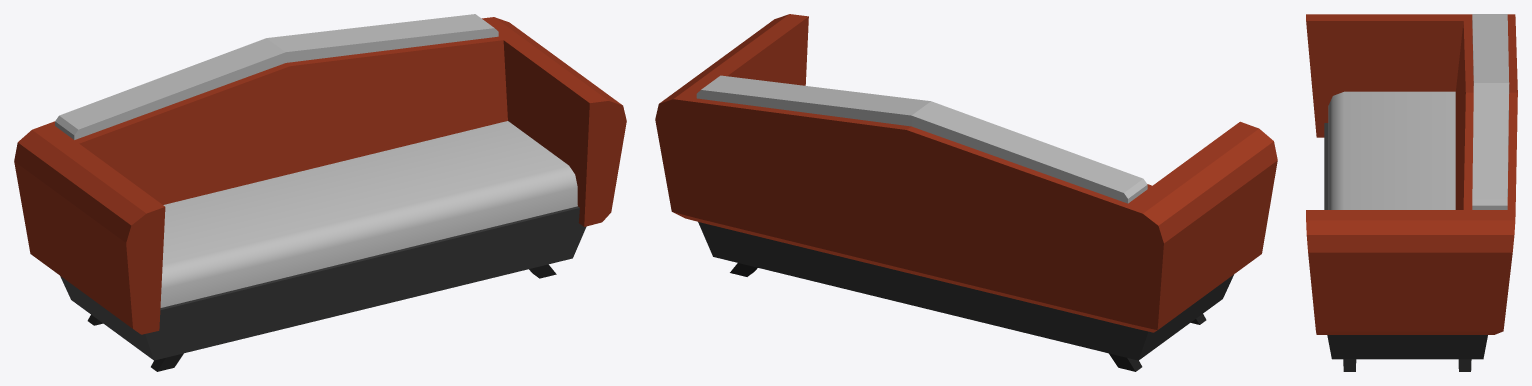
The model's file is sofa-1.glb.
3 renders of one model, left to right at view 1: azimuth 30°, elevation 25°; view 2: azimuth 150°, elevation 25°; view 3: azimuth 270°, elevation 25°, orthographic. The views are drawn at different scales.
Visible parts, largest first — view 1: Sofa_1; view 2: Sofa_1; view 3: Sofa_1.
Boxes of the visible parts, x1,y1,x2,y2 form: Sofa_1: (14, 14, 626, 371); Sofa_1: (655, 14, 1277, 371); Sofa_1: (1306, 14, 1517, 371).
Bounding box in the file's own units: 238 × 99.31 × 95.36.
Materials: 1 (1 with a texture image).
